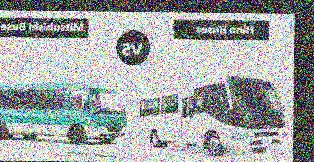bus: (137, 75, 290, 156), (0, 80, 127, 144)
